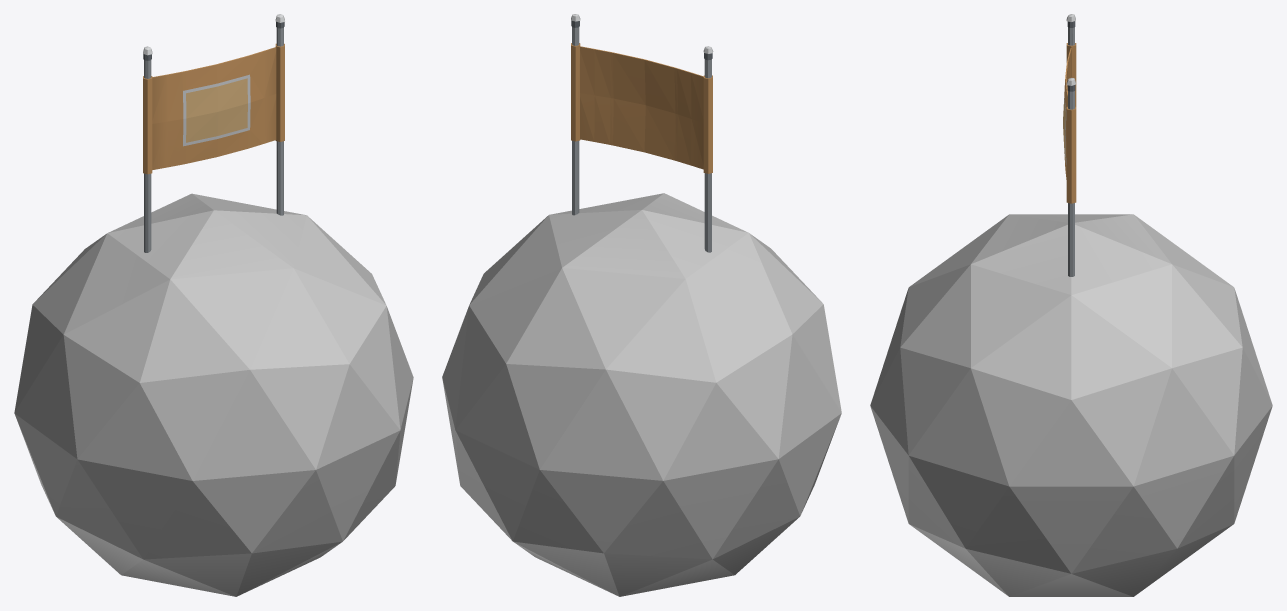
The model's file is gate.glb.
3 views of the same model, side by side, from view 1: azimuth 30°, elevation 25°; view 2: azimuth 150°, elevation 25°; view 3: azimuth 270°, elevation 25° (orthographic).
Visible parts, largest first — view 1: gate.001; view 2: gate.001; view 3: gate.001.
Part boxes in pixels (x1,y1,x2,y2): gate.001: (14, 14, 413, 596); gate.001: (442, 14, 841, 596); gate.001: (870, 14, 1272, 596).
Size of the model in its own units: 1.9 by 2.97 by 2.
